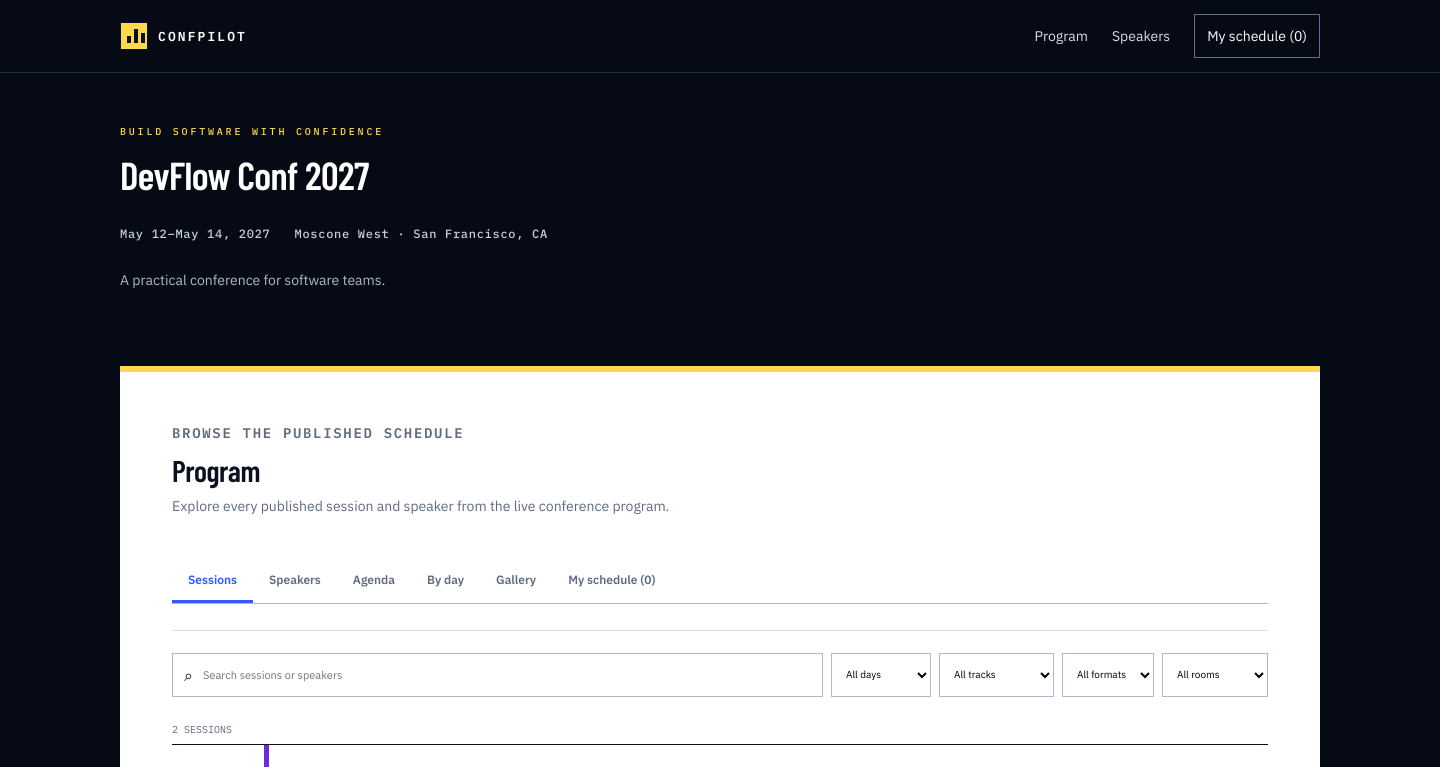
Test: describes the published schedule truthfully and pluralizes one result
Expected: the text "Browse the published schedule" is shown, top-left (172, 424), bottom-right (464, 442)
In the field named "Search sessions and speakers": coordinates (506, 674) top-left (201, 654), bottom-right (811, 696), type "Resilient workflows"
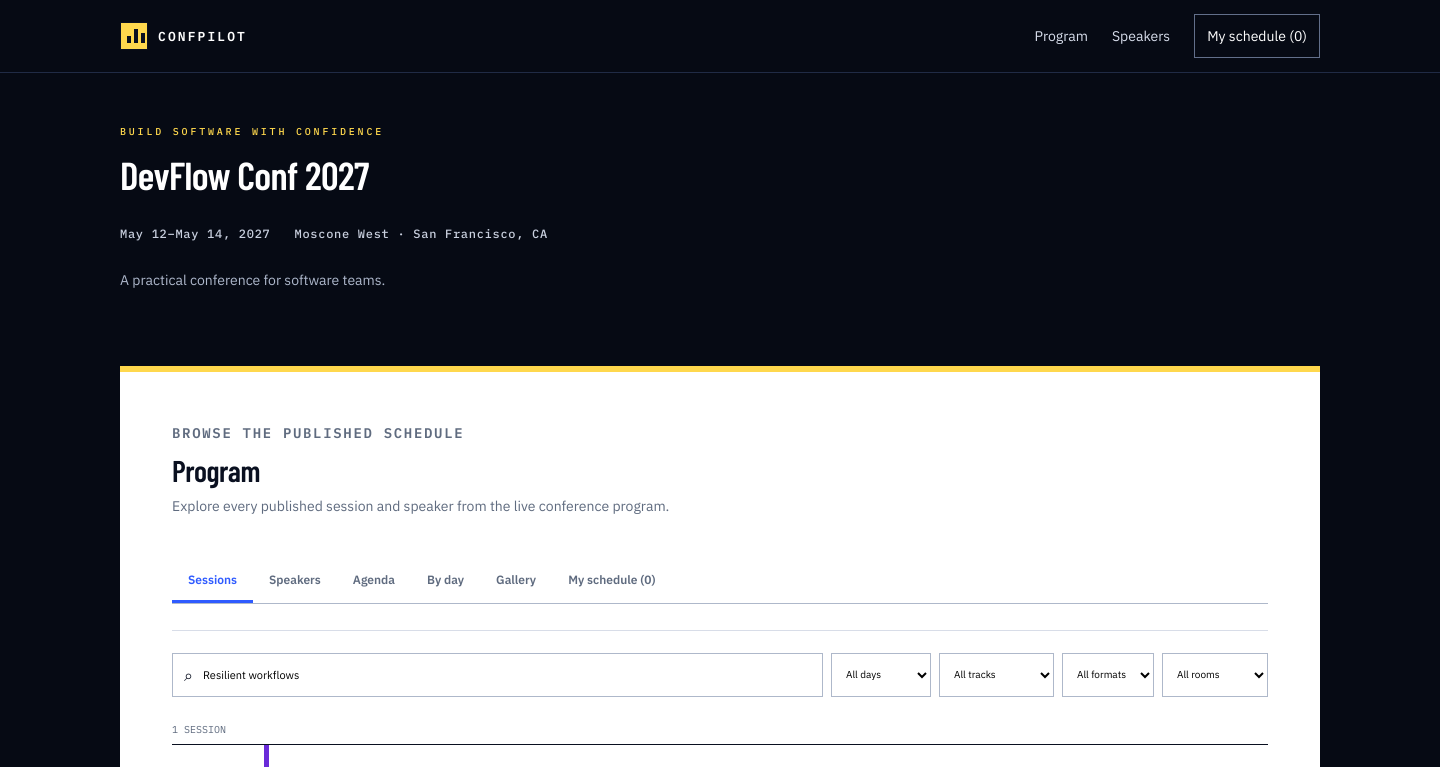
Now the text "1 session" is shown, box top-left (172, 722), bottom-right (226, 736)
